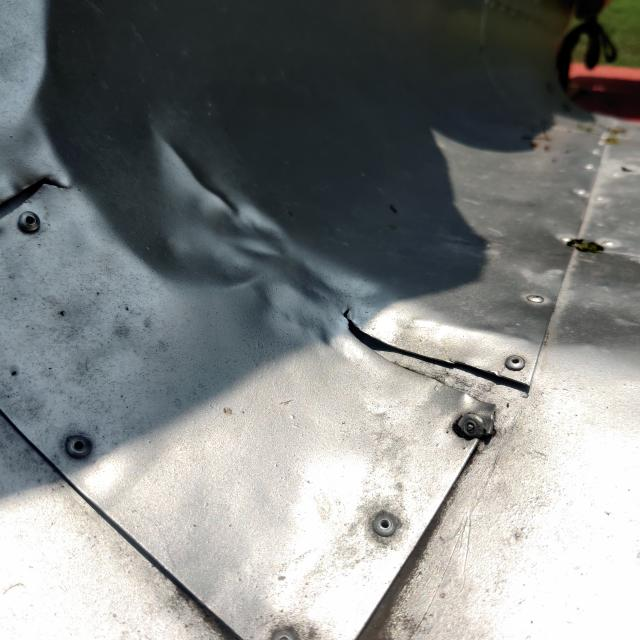crack: (326, 296, 544, 426), (0, 151, 83, 237)
dent: (0, 0, 386, 320)
